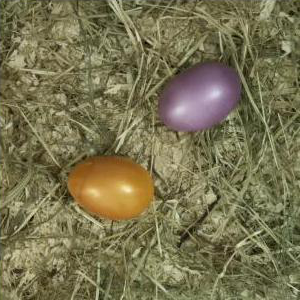egg: (157, 63, 243, 132), (66, 155, 154, 220)
